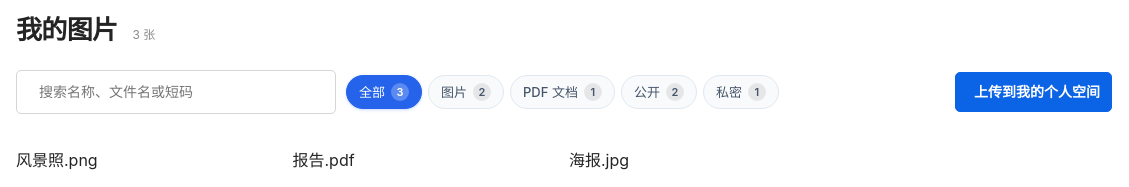
Test: User Experience & Interaction Polish › GalleryView multi-select, filter pills and batch toolbar › filters items when clicking filter pills
Expected: the number of elements with class "card-stub" is 3, [16, 150, 98, 170]; [292, 150, 355, 170]; [569, 150, 629, 170]
Note: Click PDF filter pill
Click the tab with class "filter-pill" showing "PDF 文档 1". click: x=562, y=92
box: [510, 75, 615, 109]
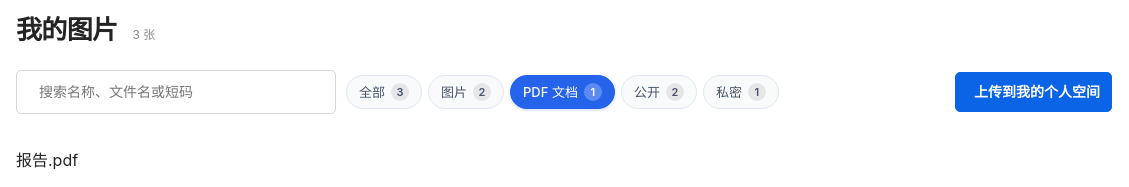
Expected: the text with class "card-stub" reads "报告.pdf", [16, 150, 78, 170]
Expected: the number of elements with class "card-stub" is 1, [16, 150, 78, 170]
Note: Click Private filter pill
Click the tab with class "filter-pill" showing "私密 1". click: x=741, y=92
box: [703, 75, 779, 109]
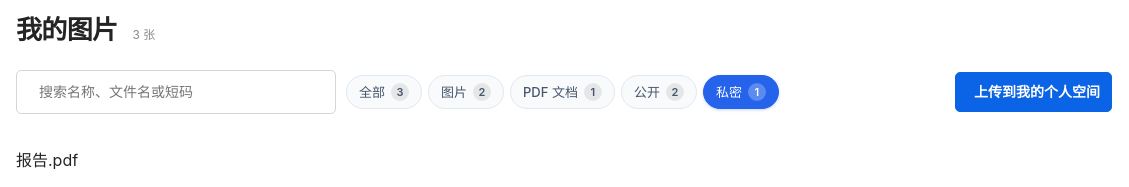
Expected: the text with class "card-stub" reads "报告.pdf", [16, 150, 78, 170]
Expected: the number of elements with class "card-stub" is 1, [16, 150, 78, 170]
Note: Click All filter pill
Click the tab with class "filter-pill" showing "全部 3". click: x=384, y=92
box: [346, 75, 422, 109]
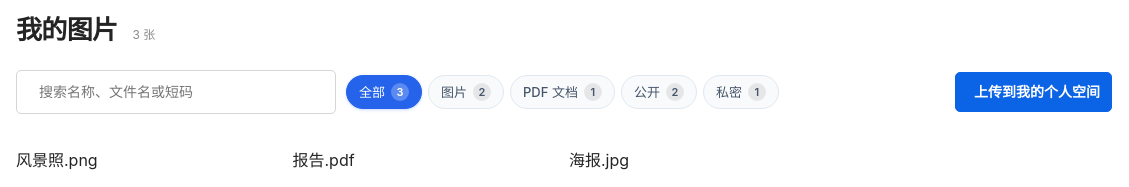
Expected: the number of elements with class "card-stub" is 3, [16, 150, 98, 170]; [292, 150, 355, 170]; [569, 150, 629, 170]
